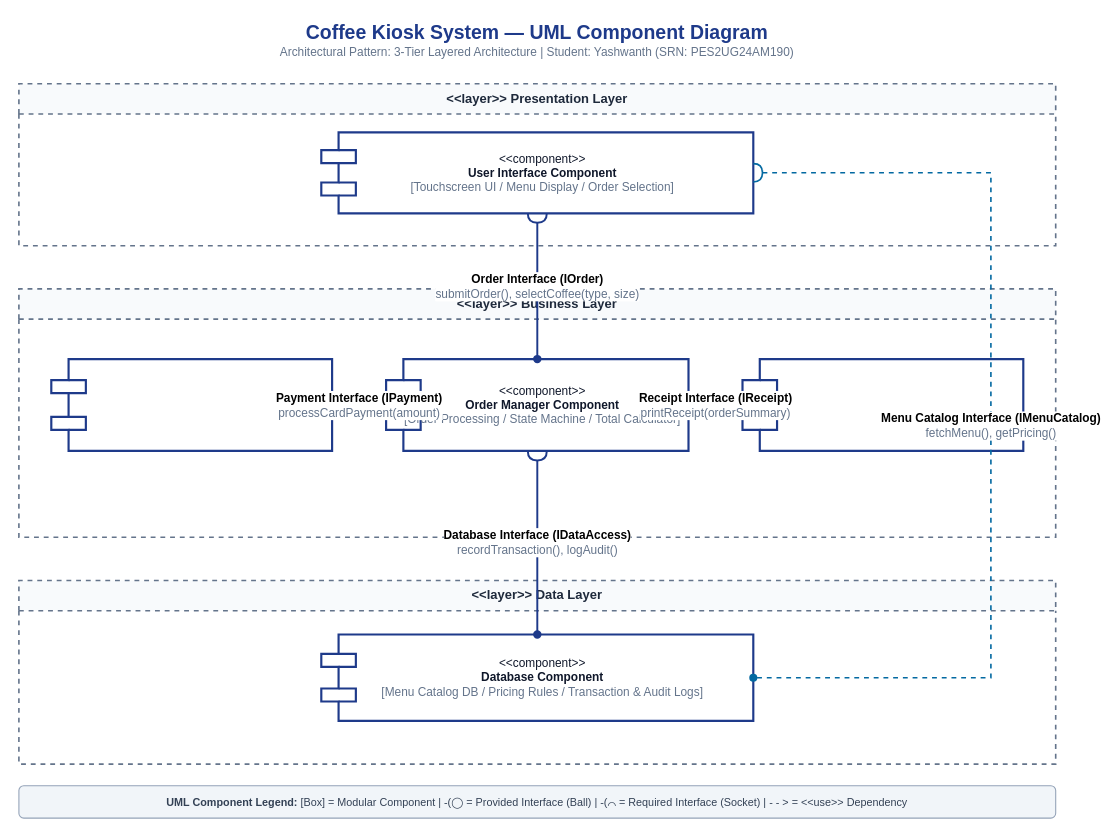
Image size: 1120x837. Some labels were removed from this diagram. The centre of each missing label's shape, as x and y in pixels:
"<<component>> Payment Service Component [Credit Card Processing / PCI Gateway]" belongs at pixel 191 404.
"<<component>> Receipt Printer Component [Hardware Driver / Print Job Formatting]" belongs at pixel 882 404.
